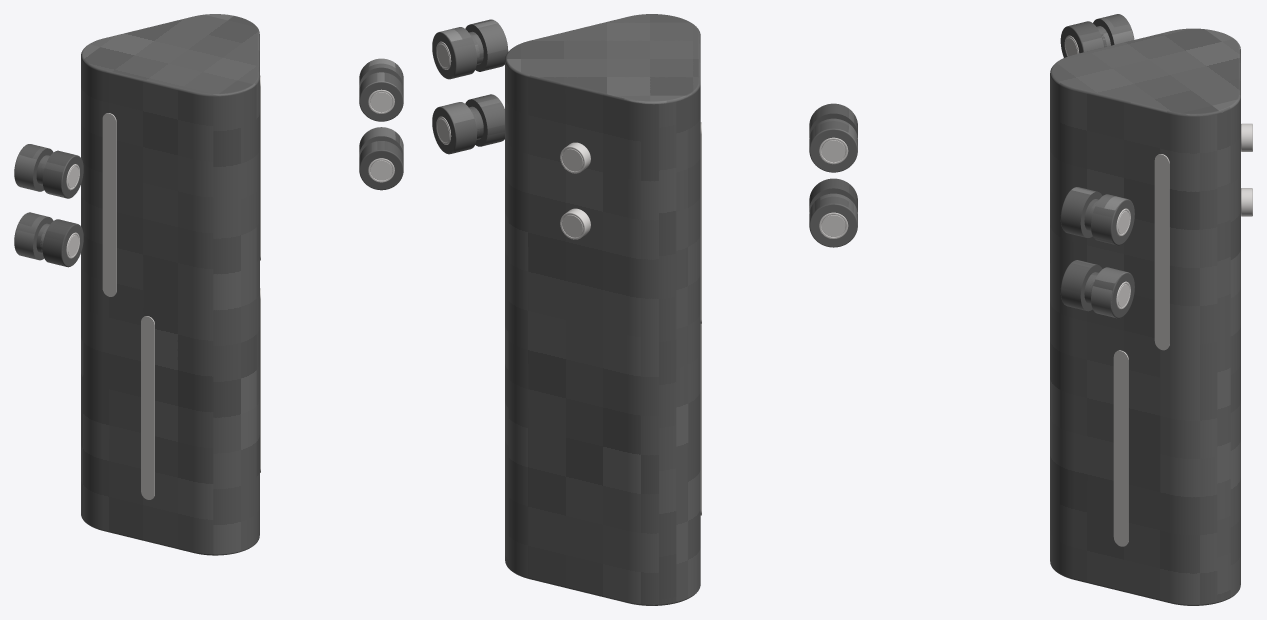
The model's file is butterfly-molde.glb.
3 renders of one model, left to right at view 1: azimuth 30°, elevation 25°; view 2: azimuth 150°, elevation 25°; view 3: azimuth 270°, elevation 25°, orthographic. The views are drawn at different scales.
Visible parts, largest first — view 1: 默认(F8E75ABC-8649-47A2-B1D1-686866DDE4D6), 默认(1166ADB0-BF88-4518-81AE-8CA244407AC4), 默认(E8B6AA40-B6FD-4982-99B3-5A2D3EA25E2B), 默认(C7AF11D1-D68E-46EC-928C-00B947BF7480), 默认(37513C4C-D4D3-4F60-AC73-C6F42827702D), 默认(3333E063-A3A3-42F4-8744-8E80A8BC0F0C), 默认(EAC1872D-4D0C-4041-BE2C-50394DB0A515), 默认(676F504E-D8E8-4565-B92D-BC07C8229AB9), 默认(5EE9B598-5A11-4E4F-988E-9D898D6F8614), 默认(04971ABB-254C-4B30-99DA-C3014CE5C727), 默认(9508AA6D-5E70-44FD-95D0-63652BAA694C); view 2: 默认(F8E75ABC-8649-47A2-B1D1-686866DDE4D6), 默认(04971ABB-254C-4B30-99DA-C3014CE5C727), 默认(9508AA6D-5E70-44FD-95D0-63652BAA694C), 默认(676F504E-D8E8-4565-B92D-BC07C8229AB9), 默认(5EE9B598-5A11-4E4F-988E-9D898D6F8614), 默认(3333E063-A3A3-42F4-8744-8E80A8BC0F0C), 默认(EAC1872D-4D0C-4041-BE2C-50394DB0A515), 默认(C7AF11D1-D68E-46EC-928C-00B947BF7480), 默认(37513C4C-D4D3-4F60-AC73-C6F42827702D); view 3: 默认(F8E75ABC-8649-47A2-B1D1-686866DDE4D6), 默认(8EDF51FB-7A0E-4CCE-9F8E-3AFB122DEE3E), 默认(14961D5B-1522-44A2-B330-0E088FDDB8CB), 默认(04971ABB-254C-4B30-99DA-C3014CE5C727), 默认(9508AA6D-5E70-44FD-95D0-63652BAA694C), 默认(EAC1872D-4D0C-4041-BE2C-50394DB0A515), 默认(3333E063-A3A3-42F4-8744-8E80A8BC0F0C), 默认(C7AF11D1-D68E-46EC-928C-00B947BF7480), 默认(676F504E-D8E8-4565-B92D-BC07C8229AB9).
Part boxes in pixels (x1,y1,x2,y2): 默认(F8E75ABC-8649-47A2-B1D1-686866DDE4D6): (81, 14, 259, 555); 默认(1166ADB0-BF88-4518-81AE-8CA244407AC4): (102, 113, 116, 296); 默认(E8B6AA40-B6FD-4982-99B3-5A2D3EA25E2B): (141, 316, 154, 499); 默认(C7AF11D1-D68E-46EC-928C-00B947BF7480): (40, 150, 83, 198); 默认(37513C4C-D4D3-4F60-AC73-C6F42827702D): (40, 219, 83, 267); 默认(3333E063-A3A3-42F4-8744-8E80A8BC0F0C): (359, 72, 403, 121); 默认(EAC1872D-4D0C-4041-BE2C-50394DB0A515): (359, 141, 403, 190); 默认(676F504E-D8E8-4565-B92D-BC07C8229AB9): (14, 144, 53, 191); 默认(5EE9B598-5A11-4E4F-988E-9D898D6F8614): (14, 212, 53, 260); 默认(04971ABB-254C-4B30-99DA-C3014CE5C727): (359, 58, 403, 89); 默认(9508AA6D-5E70-44FD-95D0-63652BAA694C): (359, 127, 403, 157); 默认(F8E75ABC-8649-47A2-B1D1-686866DDE4D6): (505, 14, 700, 605); 默认(04971ABB-254C-4B30-99DA-C3014CE5C727): (432, 27, 479, 79); 默认(9508AA6D-5E70-44FD-95D0-63652BAA694C): (432, 102, 479, 154); 默认(676F504E-D8E8-4565-B92D-BC07C8229AB9): (809, 118, 857, 172); 默认(5EE9B598-5A11-4E4F-988E-9D898D6F8614): (809, 193, 857, 247); 默认(3333E063-A3A3-42F4-8744-8E80A8BC0F0C): (465, 19, 508, 71); 默认(EAC1872D-4D0C-4041-BE2C-50394DB0A515): (465, 94, 504, 146); 默认(C7AF11D1-D68E-46EC-928C-00B947BF7480): (809, 103, 857, 137); 默认(37513C4C-D4D3-4F60-AC73-C6F42827702D): (809, 178, 857, 212); 默认(F8E75ABC-8649-47A2-B1D1-686866DDE4D6): (1050, 28, 1240, 605); 默认(8EDF51FB-7A0E-4CCE-9F8E-3AFB122DEE3E): (1154, 154, 1169, 350); 默认(14961D5B-1522-44A2-B330-0E088FDDB8CB): (1113, 350, 1128, 546); 默认(04971ABB-254C-4B30-99DA-C3014CE5C727): (1088, 194, 1134, 245); 默认(9508AA6D-5E70-44FD-95D0-63652BAA694C): (1088, 267, 1134, 318); 默认(EAC1872D-4D0C-4041-BE2C-50394DB0A515): (1060, 260, 1102, 311); 默认(3333E063-A3A3-42F4-8744-8E80A8BC0F0C): (1060, 187, 1102, 237); 默认(C7AF11D1-D68E-46EC-928C-00B947BF7480): (1060, 21, 1106, 57); 默认(676F504E-D8E8-4565-B92D-BC07C8229AB9): (1093, 14, 1134, 46).
Size of what is drawn, in the model's own units: 0.2237 by 0.229 by 0.1108.
Materials: 11 (10 with a texture image).
